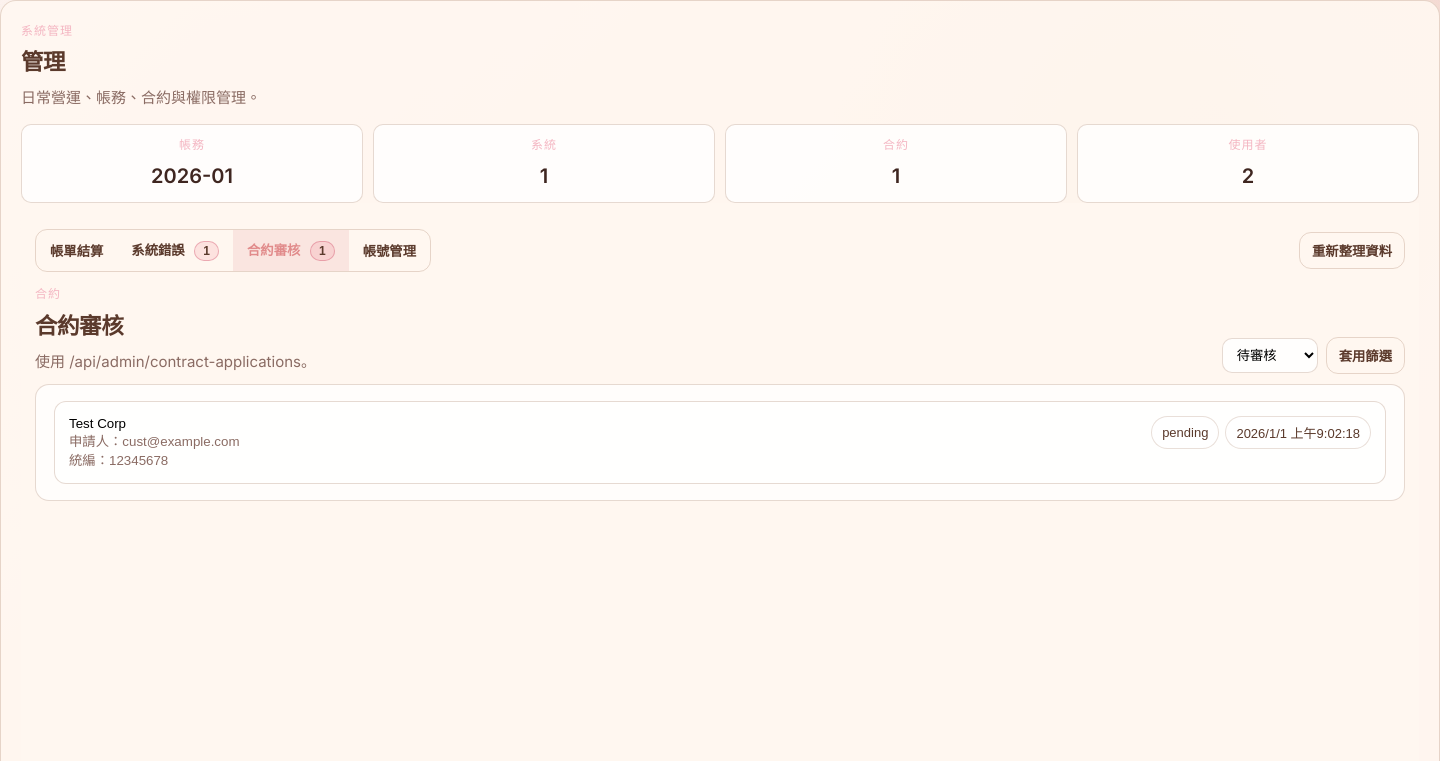
Test case: AdminView › Tab 切換 › 應該能切換到用戶 tab
Click the button "帳號管理".
click(389, 251)  # box [349, 230, 430, 271]
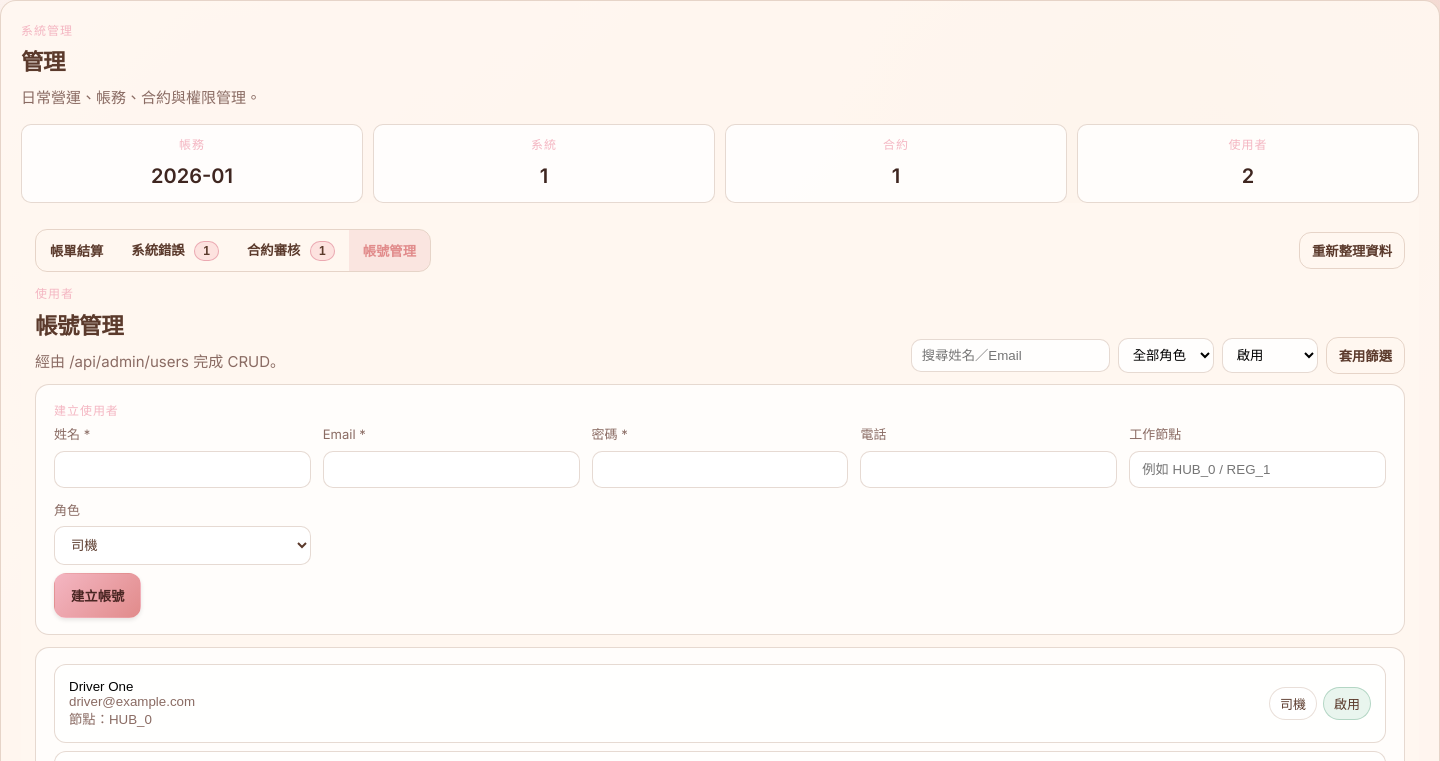
Check: the field labelled "Email *" is shown, box [323, 450, 580, 488]
